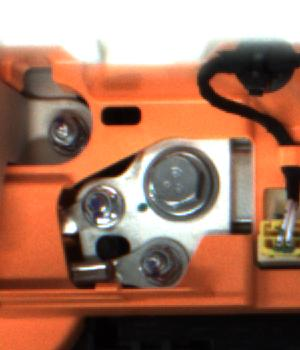nut_b: (147, 147, 226, 223)
screw_s: (132, 236, 185, 285), (78, 184, 122, 229), (48, 108, 89, 155)
